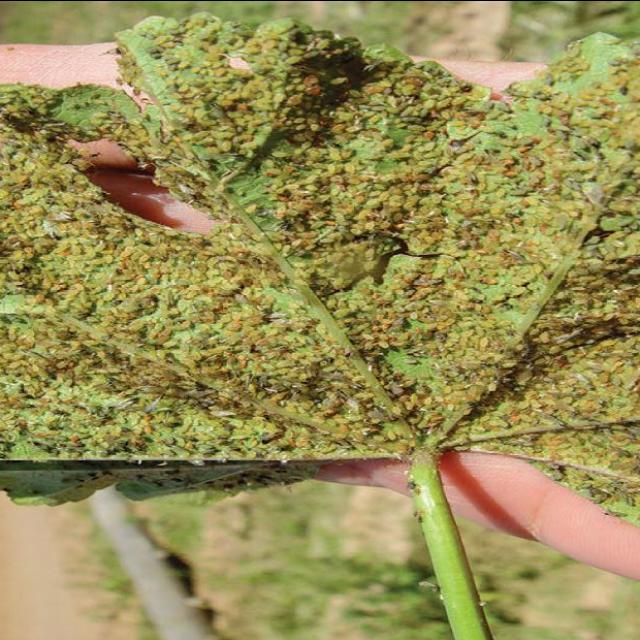Aphids: (0, 15, 640, 524)
